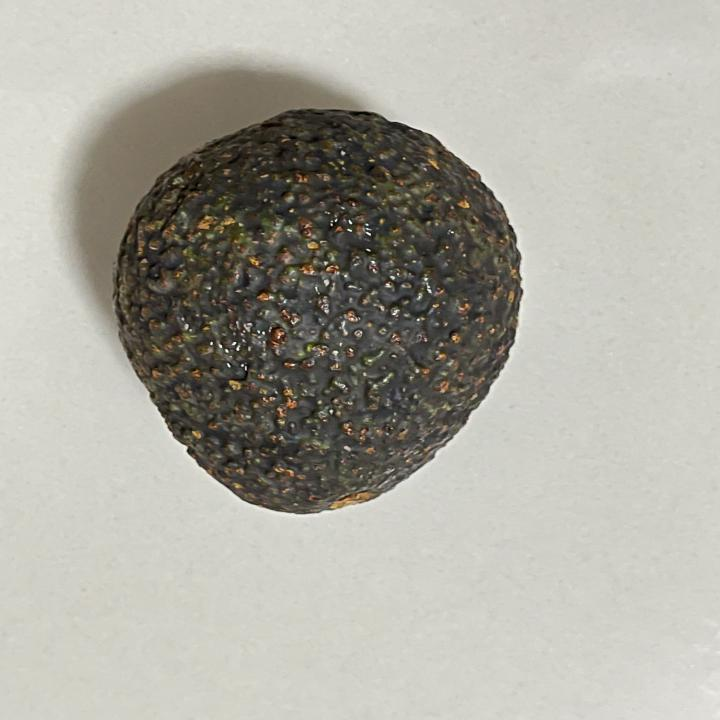Level1: (100, 97, 536, 532)
